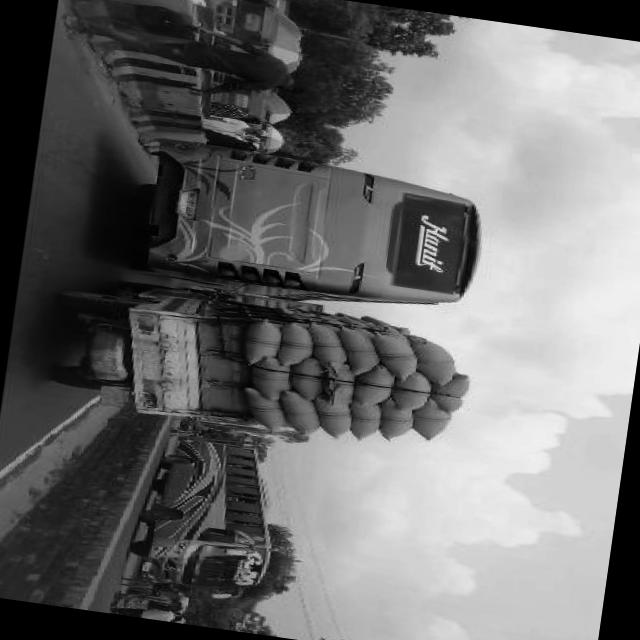bus: (124, 136, 498, 321), (138, 430, 292, 605)
motorcycle: (219, 0, 286, 47)
truck: (50, 274, 491, 458)
